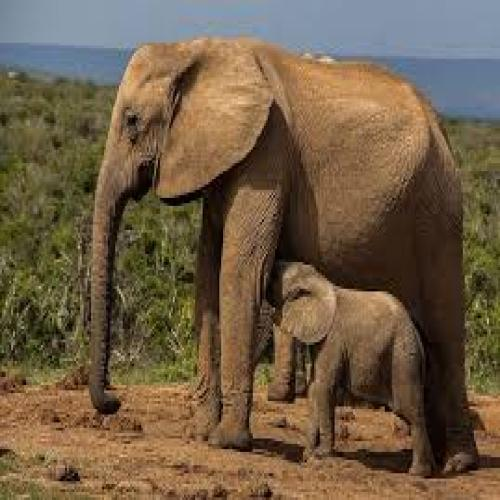asian_elephant-endangered: (87, 39, 481, 475), (253, 258, 434, 473)
